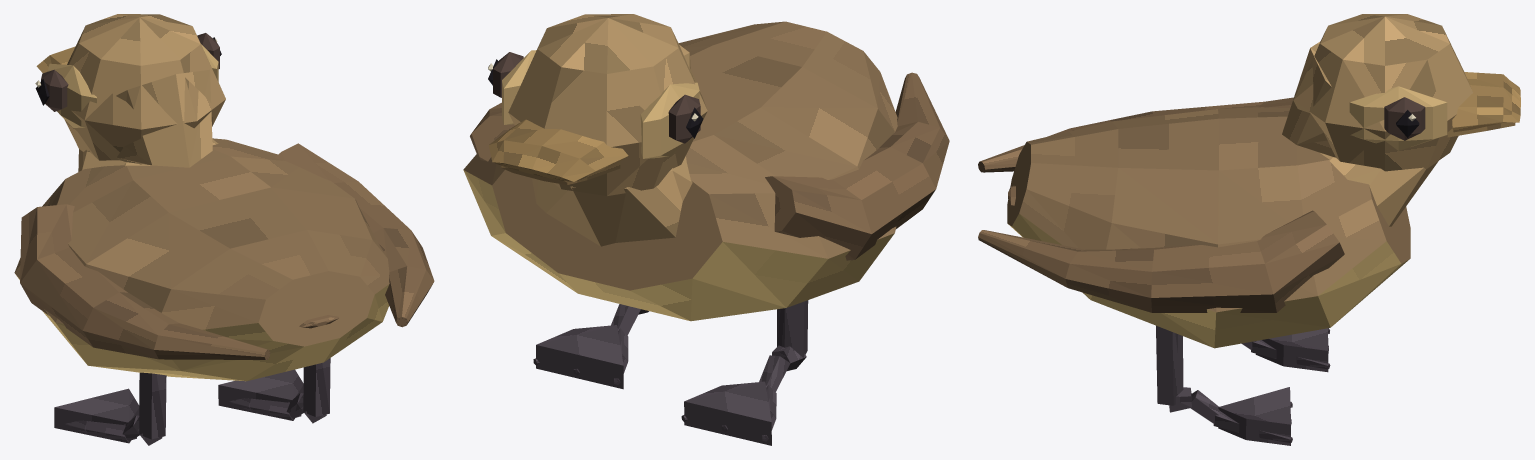
Rendered from mon_goose_canadian_chick.glb.
3 views of the same model, side by side, from view 1: azimuth 30°, elevation 25°; view 2: azimuth 150°, elevation 25°; view 3: azimuth 270°, elevation 25° (orthographic). The views are drawn at different scales.
Visible parts, largest first — view 1: closed_body; view 2: closed_body; view 3: closed_body.
Boxes of the visible parts, x1,y1,x2,y2 form: closed_body: [14, 14, 434, 445]; closed_body: [463, 14, 949, 445]; closed_body: [978, 14, 1520, 445].
Bounding box in the file's own units: 0.0873 × 0.087 × 0.1142.
1 material, 1 textured.
